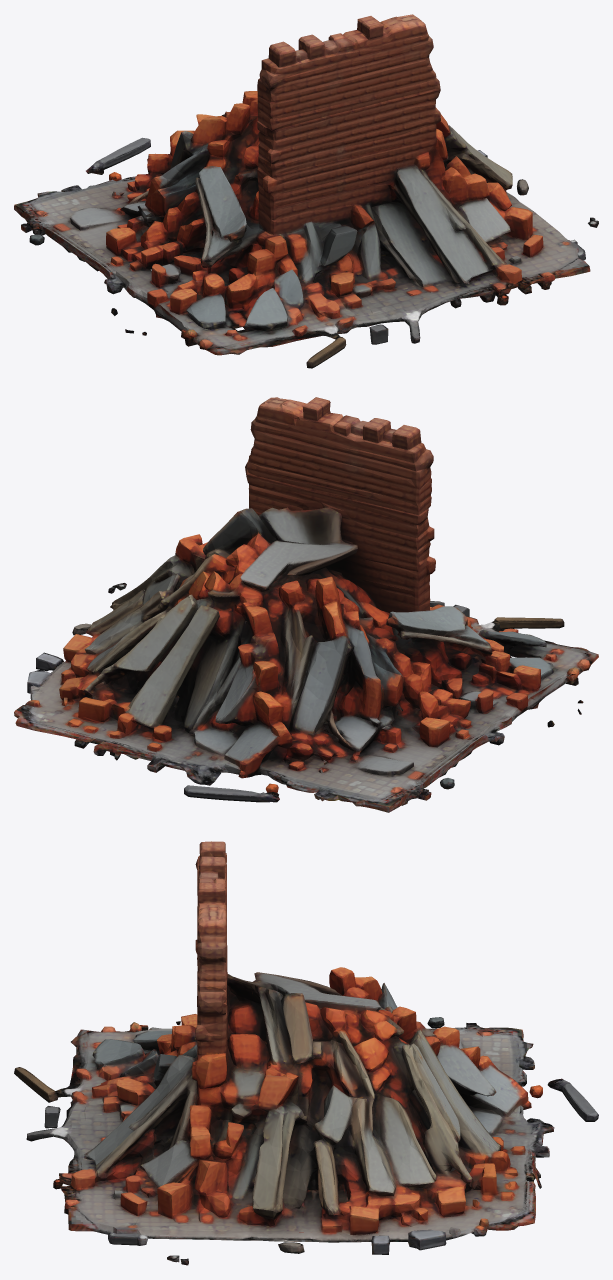
The model's file is escombros.glb.
The picture shows the model from 3 angles, top to bottom: view 1: azimuth 30°, elevation 25°; view 2: azimuth 150°, elevation 25°; view 3: azimuth 270°, elevation 25°; orthographic projection. The views are drawn at different scales.
Parts seen in each view (by area): view 1: world; view 2: world; view 3: world.
Boxes of the visible parts, x1,y1,x2,y2 form: world: (14,14,598,368); world: (14,397,598,812); world: (14,841,598,1265).
Size of the model in its own units: 0.9928 by 0.5136 by 0.993.
Materials: 1 (1 with a texture image).
